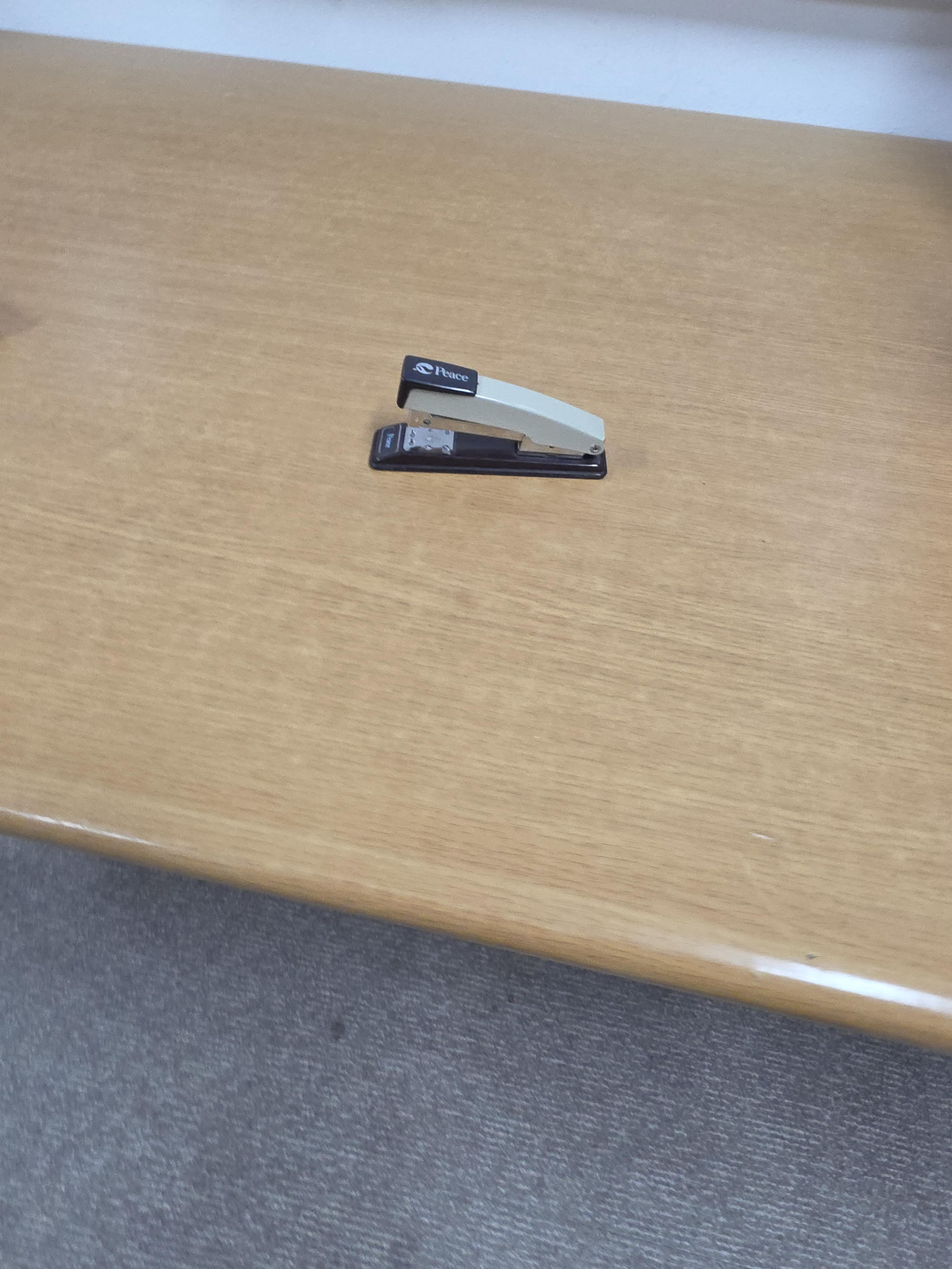stapler: (368, 355, 607, 480)
